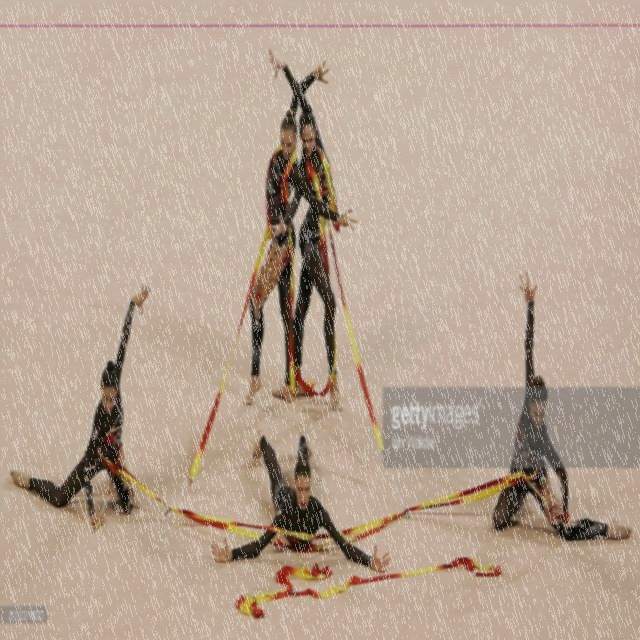pessoa: (240, 52, 361, 412), (489, 265, 634, 543), (6, 276, 153, 530), (267, 43, 343, 414), (208, 423, 392, 574)
